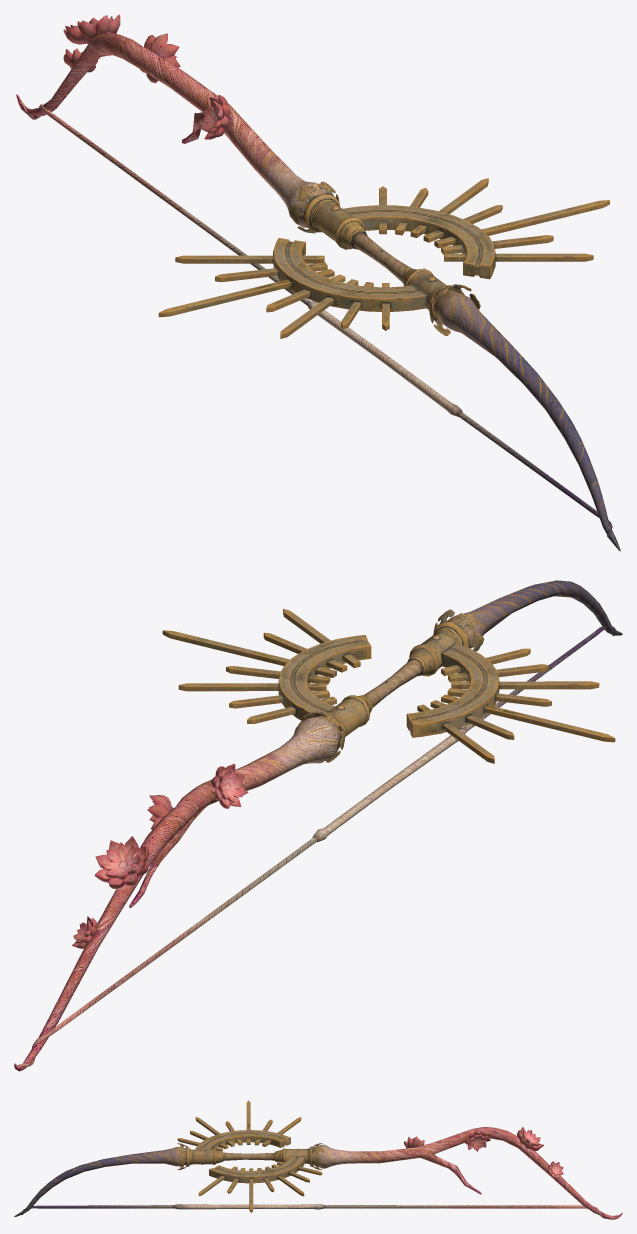
Rendered from bow017.obj.
3 views of the same model, one above another, from view 1: azimuth 30°, elevation 25°; view 2: azimuth 150°, elevation 25°; view 3: azimuth 270°, elevation 25° (orthographic). The views are drawn at different scales.
Parts seen in each view (by area): view 1: bow017_002_LOD_1, bow017_001_LOD_1, bow017_000_LOD_1, bow017_007_LOD_1, bow017_004_LOD_1, bow017_006_LOD_1, bow017_005_LOD_1; view 2: bow017_002_LOD_1, bow017_001_LOD_1, bow017_000_LOD_1, bow017_007_LOD_1, bow017_004_LOD_1, bow017_006_LOD_1; view 3: bow017_001_LOD_1, bow017_002_LOD_1, bow017_007_LOD_1, bow017_000_LOD_1, bow017_004_LOD_1, bow017_005_LOD_1, bow017_003_LOD_1.
Boxes of the visible parts, left/top/right/bottom form: bow017_002_LOD_1: left=158, top=178, right=609, bottom=338; bow017_001_LOD_1: left=16, top=32, right=620, bottom=551; bow017_000_LOD_1: left=288, top=181, right=480, bottom=335; bow017_007_LOD_1: left=21, top=101, right=617, bottom=543; bow017_004_LOD_1: left=63, top=14, right=120, bottom=44; bow017_006_LOD_1: left=200, top=95, right=230, bottom=139; bow017_005_LOD_1: left=140, top=33, right=180, bottom=83; bow017_002_LOD_1: left=162, top=608, right=615, bottom=763; bow017_001_LOD_1: left=14, top=580, right=622, bottom=1071; bow017_000_LOD_1: left=294, top=609, right=484, bottom=762; bow017_007_LOD_1: left=18, top=626, right=616, bottom=1066; bow017_004_LOD_1: left=95, top=836, right=148, bottom=888; bow017_006_LOD_1: left=210, top=763, right=248, bottom=808; bow017_001_LOD_1: left=14, top=1127, right=622, bottom=1219; bow017_002_LOD_1: left=177, top=1100, right=322, bottom=1212; bow017_007_LOD_1: left=18, top=1203, right=618, bottom=1218; bow017_000_LOD_1: left=177, top=1143, right=322, bottom=1169; bow017_004_LOD_1: left=517, top=1127, right=543, bottom=1151; bow017_005_LOD_1: left=465, top=1130, right=490, bottom=1151; bow017_003_LOD_1: left=548, top=1161, right=563, bottom=1178.
Bounding box in the file's own units: 126 × 47.41 × 294.
